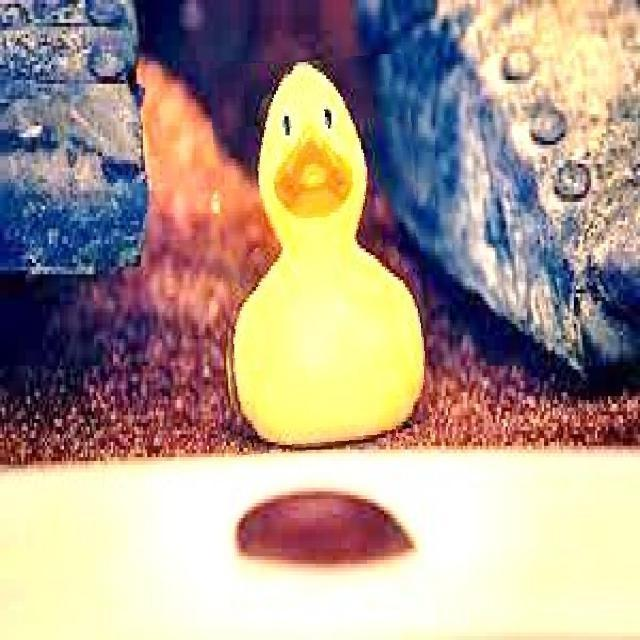rubber-duck: (231, 61, 423, 443)
